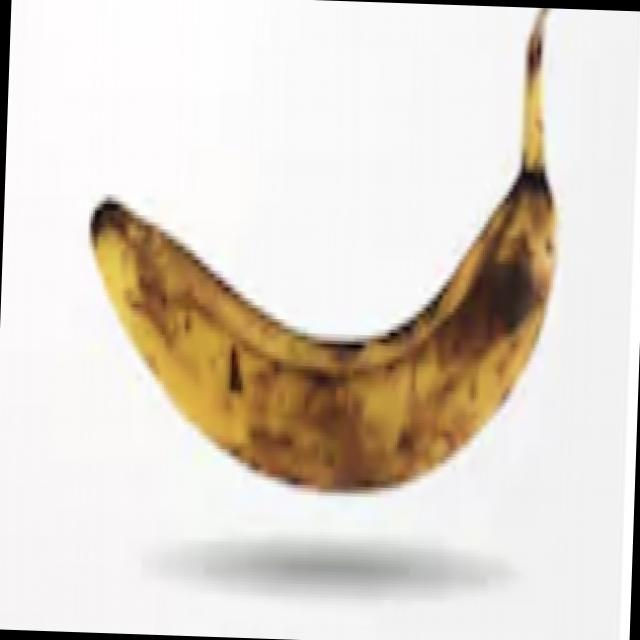rotten-banana: (85, 100, 569, 499)
